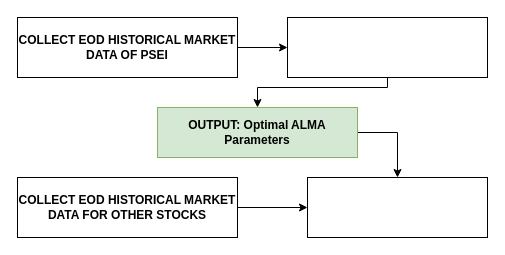
The diagram is 505 pixels wide and 255 high, and some of its shapes have lost their labels. Here are the shapes that lost their labels. From the top down, the centre of each, then its label:
[387,47]: Optimization of fast and slow ALMA parameters (Using Grid Search)
[397,207]: Validation of Optimal ALMA Parameters (Using Return Backtesting)
